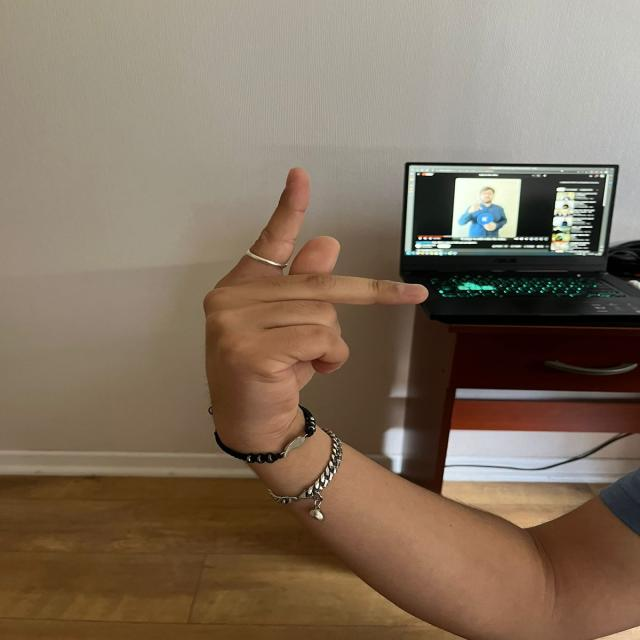K: (188, 161, 428, 432)
